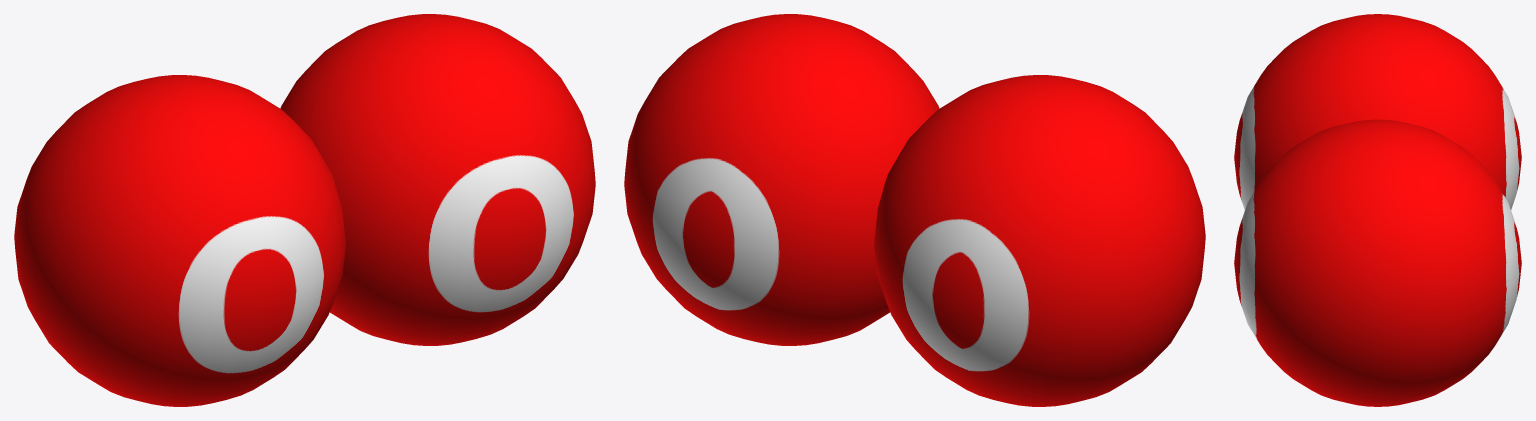
The picture shows the model from 3 angles, left to right: view 1: azimuth 30°, elevation 25°; view 2: azimuth 150°, elevation 25°; view 3: azimuth 270°, elevation 25°; orthographic projection. The views are drawn at different scales.
Parts seen in each view (by area): view 1: O2; view 2: O2; view 3: O2.
Boxes of the visible parts, left/top/right/bottom form: O2: left=14, top=14, right=595, bottom=406; O2: left=624, top=14, right=1205, bottom=406; O2: left=1234, top=14, right=1521, bottom=406.
Size of the model in its own units: 603 by 323 by 323.
1 material, 1 textured.
